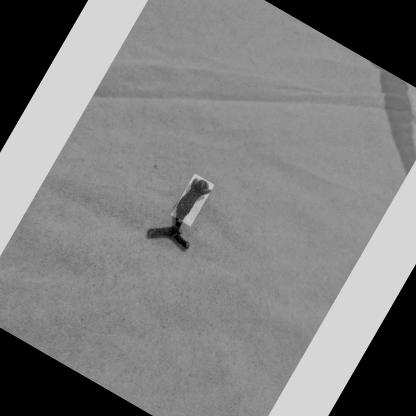buruk: (175, 179, 211, 221)
